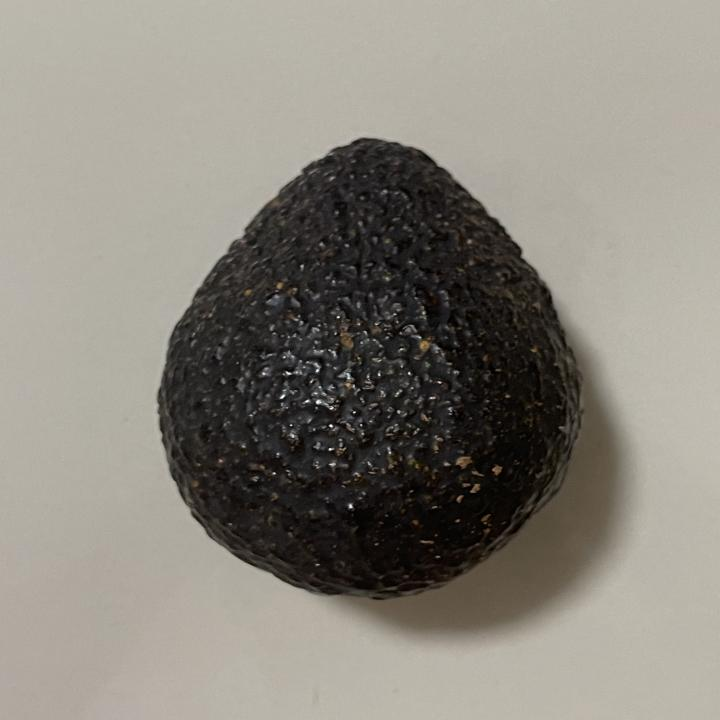Level3: (143, 121, 596, 610)
